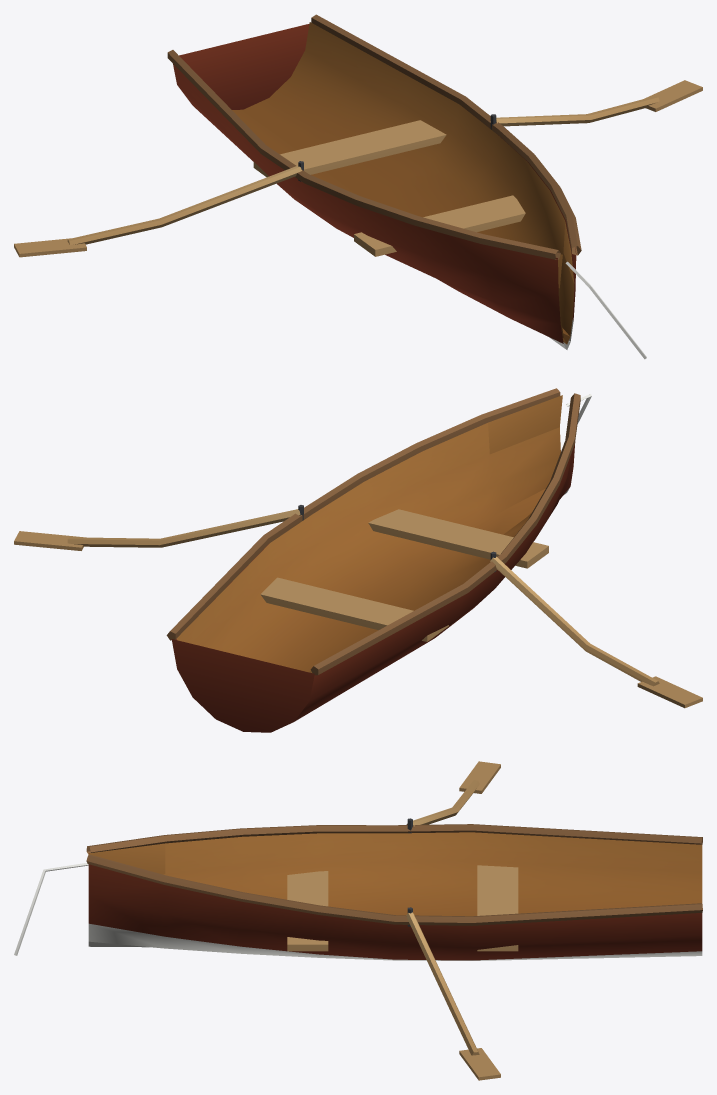
The model's file is Rowboat.fbx.
3 views of the same model, one above another, from view 1: azimuth 30°, elevation 25°; view 2: azimuth 150°, elevation 25°; view 3: azimuth 270°, elevation 25° (orthographic). The views are drawn at different scales.
Parts seen in each view (by area): view 1: Rowboat_LOD0; view 2: Rowboat_LOD0; view 3: Rowboat_LOD0.
Boxes of the visible parts, left/top/right/bottom form: Rowboat_LOD0: left=14, top=14, right=702, bottom=359; Rowboat_LOD0: left=14, top=388, right=702, bottom=732; Rowboat_LOD0: left=14, top=761, right=702, bottom=1080.
Size of what is drawn, in the model's own units: 5.12 by 0.7432 by 4.72.
Materials: 1 (1 with a texture image).
